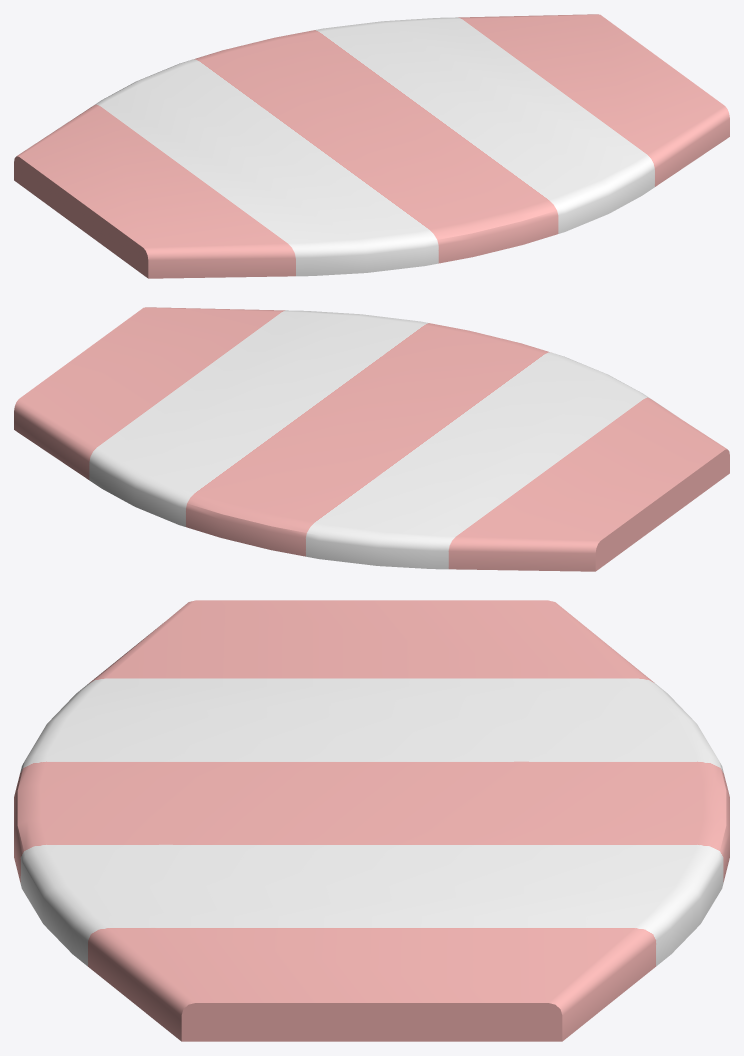
File: RoadWide_red.fbx
The picture shows the model from 3 angles, top to bottom: view 1: azimuth 30°, elevation 25°; view 2: azimuth 150°, elevation 25°; view 3: azimuth 270°, elevation 25°; orthographic projection. The views are drawn at different scales.
Visible parts, largest first — view 1: RoadWide_red; view 2: RoadWide_red; view 3: RoadWide_red.
Part boxes in pixels (box(x1,y1,x2,y2)): RoadWide_red: box(14, 14, 729, 278); RoadWide_red: box(14, 307, 729, 571); RoadWide_red: box(14, 600, 729, 1041).
Bounding box in the file's own units: 750 × 33.61 × 564.
1 material, 1 textured.
